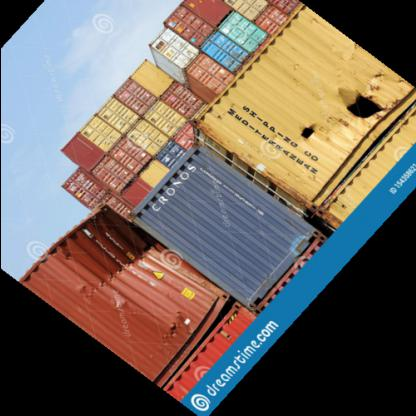Damage: (86, 213, 158, 283), (336, 78, 390, 138), (289, 120, 326, 154)
